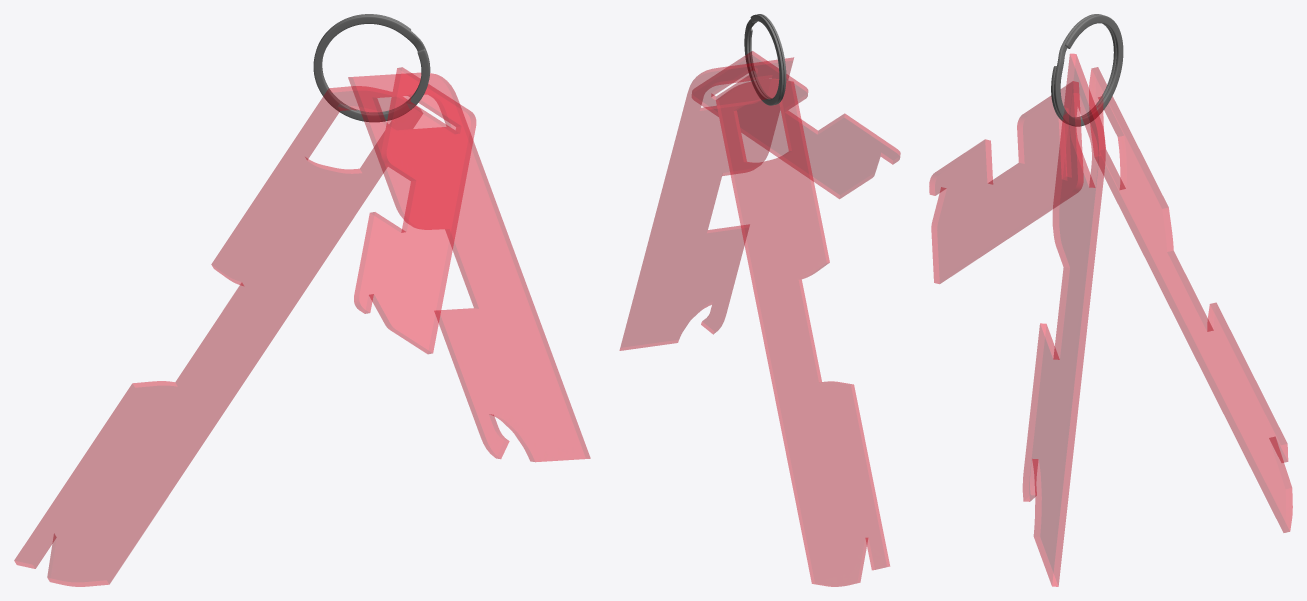
3 renders of one model, left to right at view 1: azimuth 30°, elevation 25°; view 2: azimuth 150°, elevation 25°; view 3: azimuth 270°, elevation 25°, orthographic. The views are drawn at different scales.
Parts seen in each view (by area): view 1: Wide.001, Italic.001, Condensed.001, Circle.001; view 2: Wide.001, Italic.001, Condensed.001, Circle.001; view 3: Italic.001, Wide.001, Condensed.001, Circle.001.
Boxes of the visible parts, <box> form: Wide.001: <box>14,86,422,586</box>; Italic.001: <box>348,73,590,461</box>; Condensed.001: <box>354,67,475,353</box>; Circle.001: <box>313,14,430,122</box>; Wide.001: <box>716,79,889,586</box>; Italic.001: <box>619,57,793,350</box>; Condensed.001: <box>692,51,900,198</box>; Circle.001: <box>744,14,786,105</box>; Italic.001: <box>1023,54,1105,586</box>; Wide.001: <box>1089,67,1292,532</box>; Condensed.001: <box>929,81,1083,283</box>; Circle.001: <box>1051,14,1123,126</box>.
Bounding box in the file's own units: 0.1111 × 0.1398 × 0.0777.
4 materials, 3 textured.
